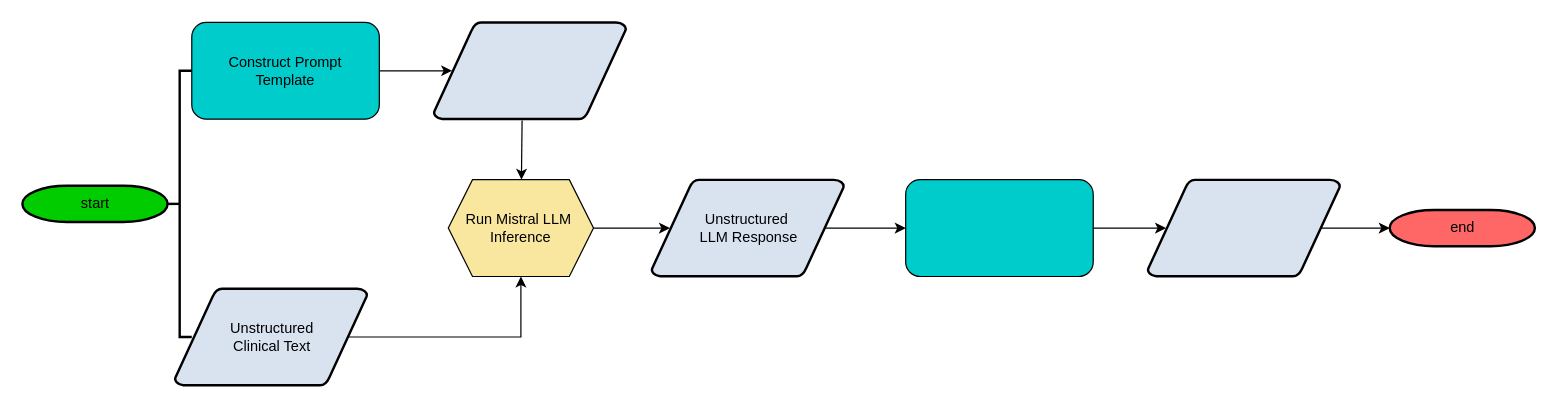
This 1556x407 diagram has some shape labels left out. The shapes that lost their labels are listed below. From the top down, each one's centre as x and y in pixels, then its label:
At point (529, 70): "Prompt text".
At point (998, 227): "Parse & Extract Predicted Label".
At point (1243, 227): "Final Diagnosis Risk Category".
